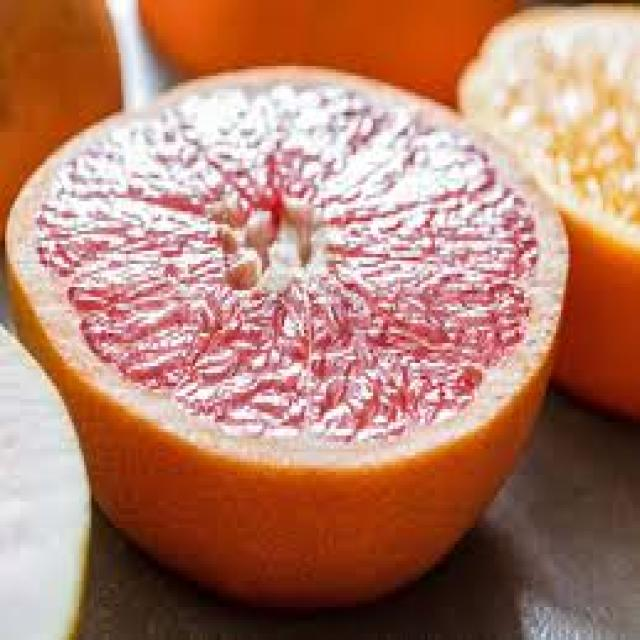orange: (5, 62, 567, 599)
